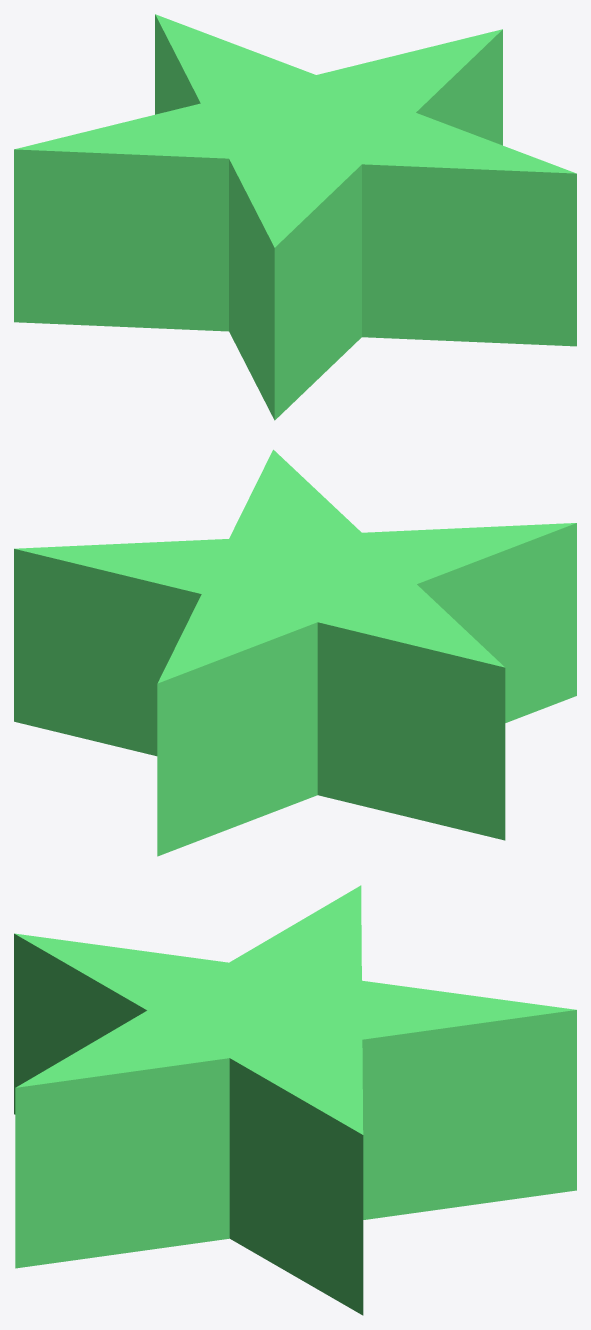
The model's file is etoile_verte.dae.
3 renders of one model, top to bottom at view 1: azimuth 30°, elevation 25°; view 2: azimuth 150°, elevation 25°; view 3: azimuth 270°, elevation 25°, orthographic. The views are drawn at different scales.
Visible parts, largest first — view 1: Etoile Verte; view 2: Etoile Verte; view 3: Etoile Verte.
Part boxes in pixels (<box>): Etoile Verte: <box>14,14,576,420</box>; Etoile Verte: <box>14,449,576,856</box>; Etoile Verte: <box>14,885,576,1315</box>.
Bounding box in the file's own units: 0.0445 × 0.0424 × 0.015.
